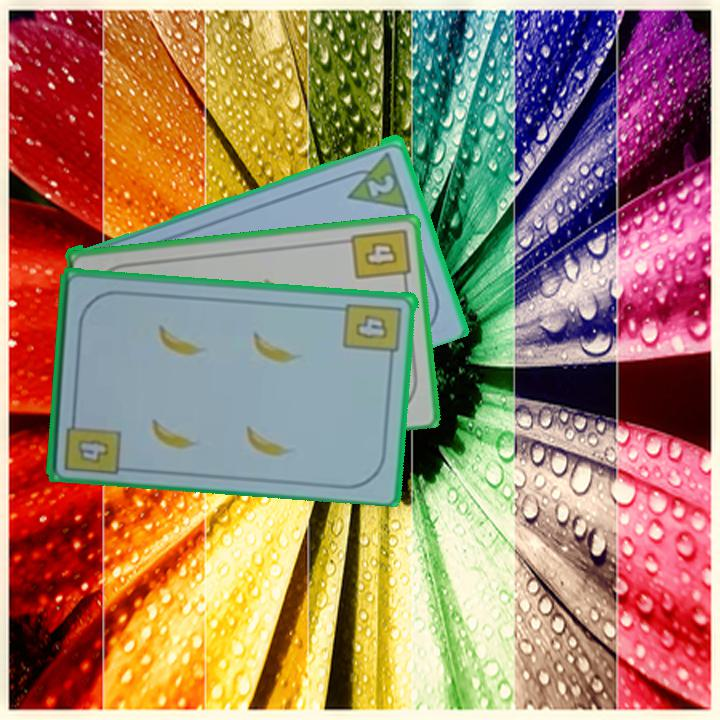2p: (364, 170, 398, 199)
4b: (60, 408, 123, 477), (341, 299, 405, 365), (348, 224, 413, 288)
